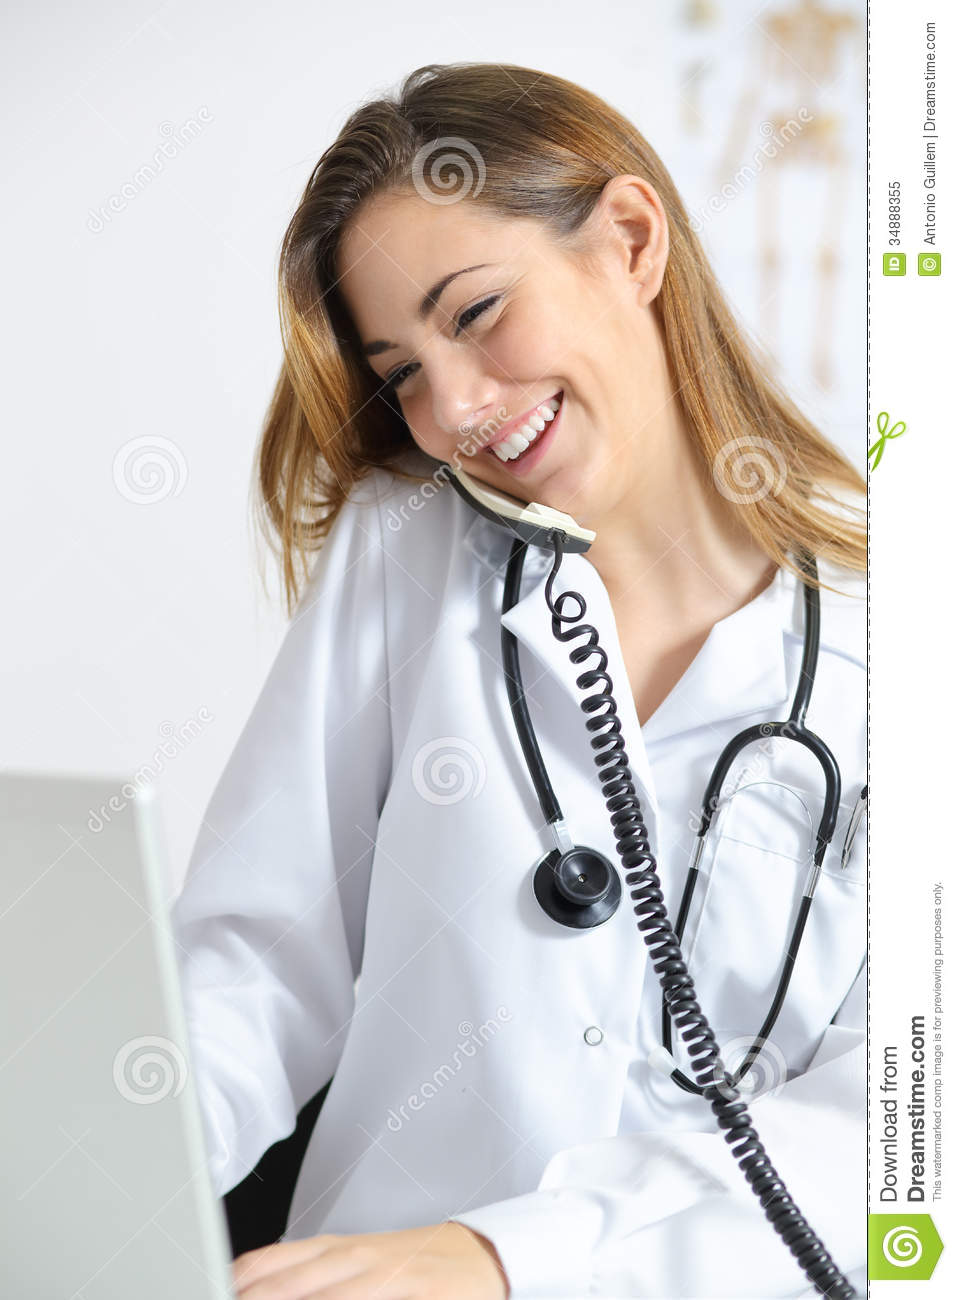talk: (360, 252, 611, 569)
